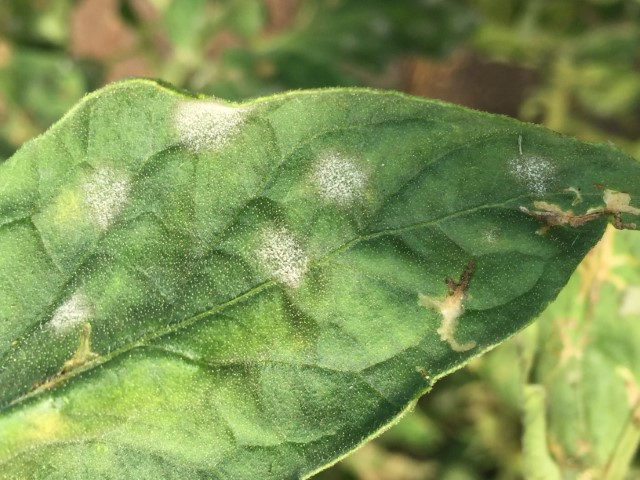oidio: (173, 99, 246, 154), (83, 164, 132, 231), (257, 226, 309, 289), (311, 153, 368, 206), (507, 156, 556, 195), (51, 290, 88, 336)
